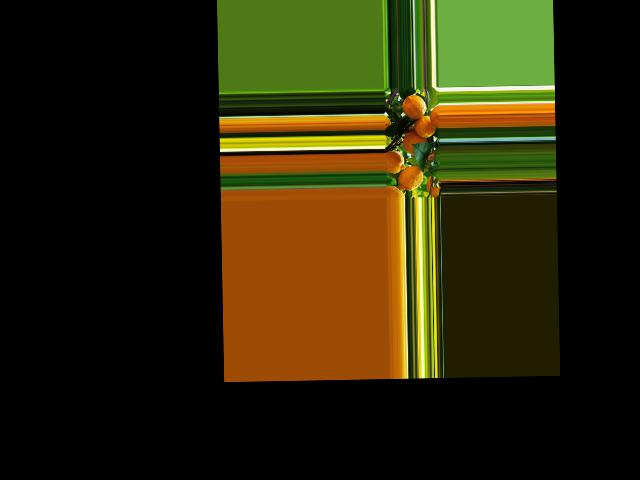lemon: (403, 92, 428, 121)
